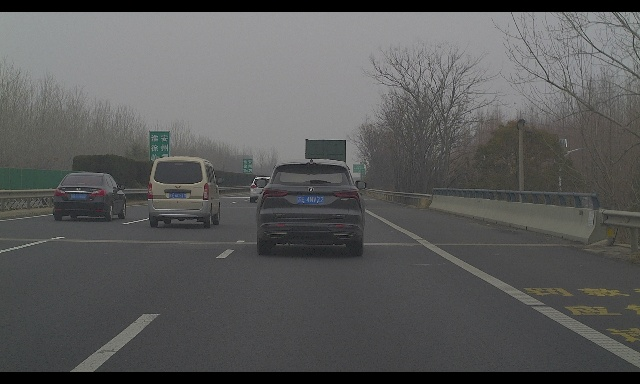car: (256, 158, 367, 256), (147, 156, 225, 228), (53, 173, 126, 222), (248, 176, 278, 203)
truck: (305, 139, 346, 196)
